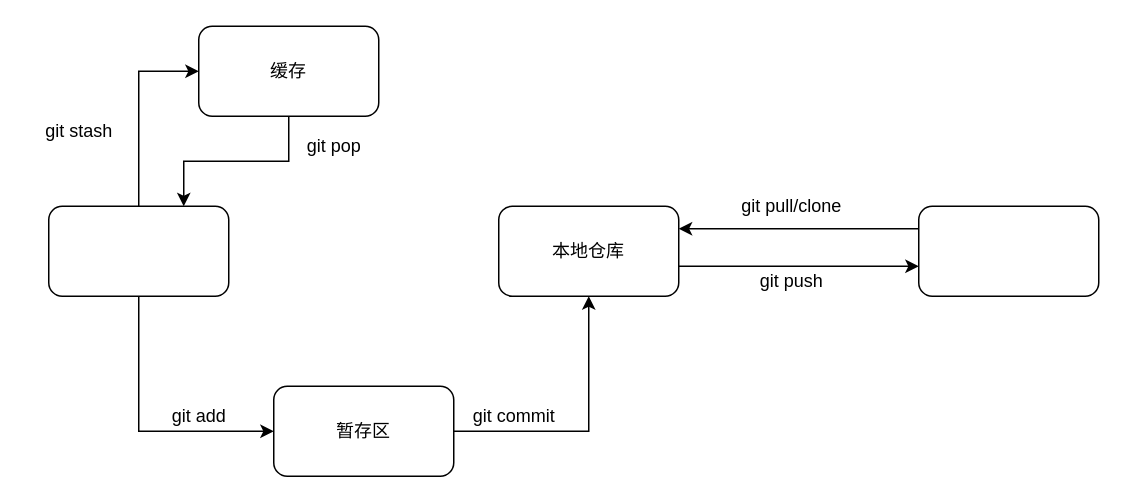
This 1125x503 diagram has some shape labels left out. Each missing label, with the centre of its shape:
"工作区" belongs at point (138, 250).
"远程仓库" belongs at point (1008, 250).
